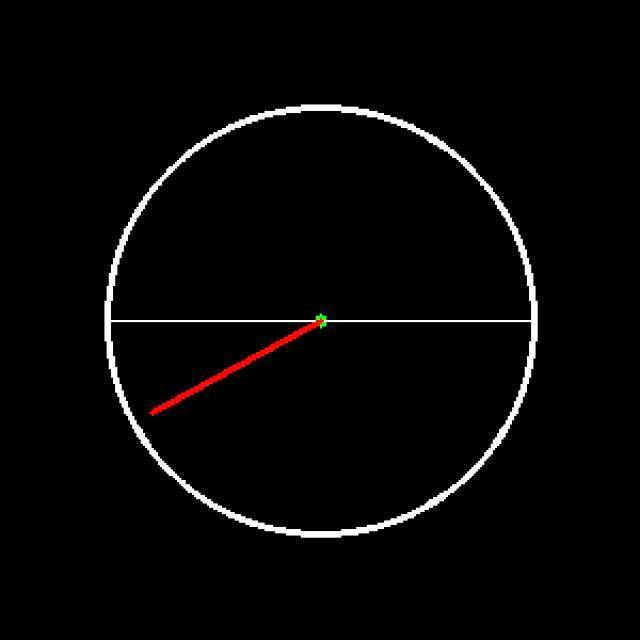Needle_Tip: (143, 388, 174, 434)
Needle_base: (284, 298, 357, 360)
